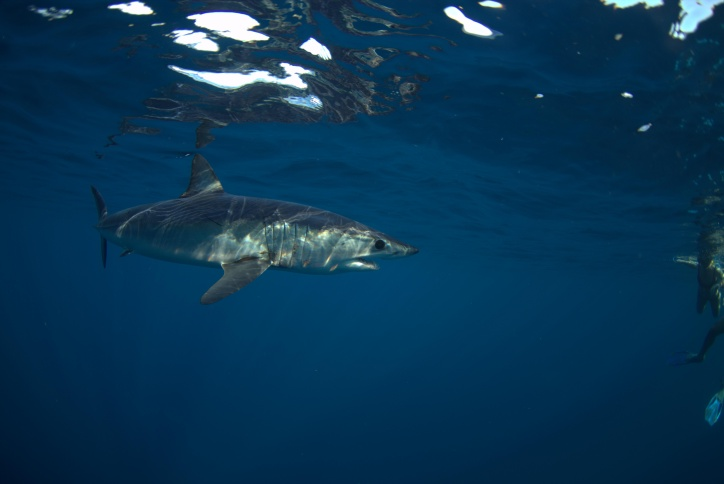Mako: (72, 151, 429, 322)
